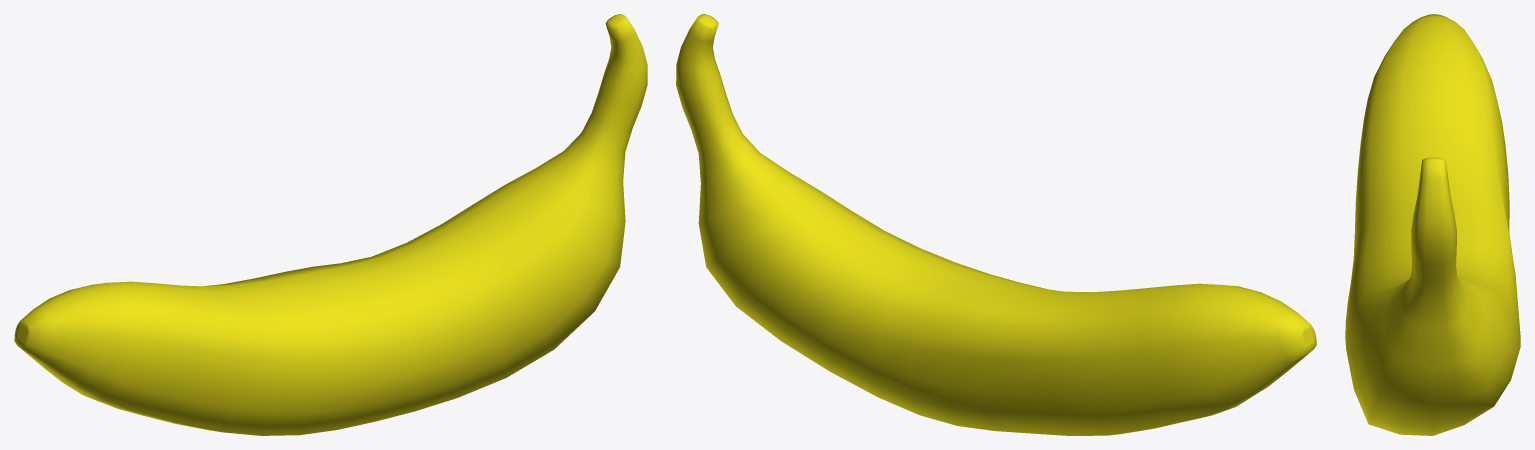
The model's file is banane.fbx.
3 views of the same model, side by side, from view 1: azimuth 30°, elevation 25°; view 2: azimuth 150°, elevation 25°; view 3: azimuth 270°, elevation 25° (orthographic). The views are drawn at different scales.
Visible parts, largest first — view 1: Banane; view 2: Banane; view 3: Banane.
Part boxes in pixels (left/top/right/bottom): Banane: left=14, top=14, right=647, bottom=435; Banane: left=676, top=14, right=1316, bottom=435; Banane: left=1345, top=14, right=1520, bottom=435.
Bounding box in the file's own units: 20.86 × 10.62 × 4.59.
